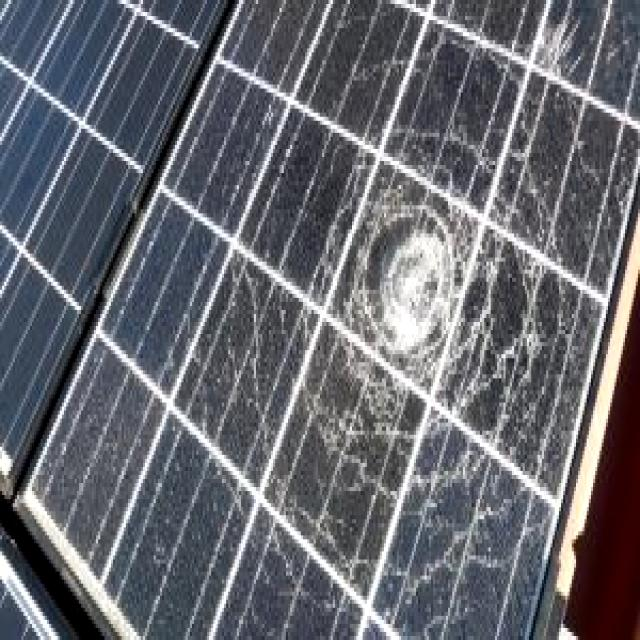hotspot: (356, 124, 475, 408), (333, 481, 506, 596), (490, 194, 578, 388), (514, 6, 602, 141)
